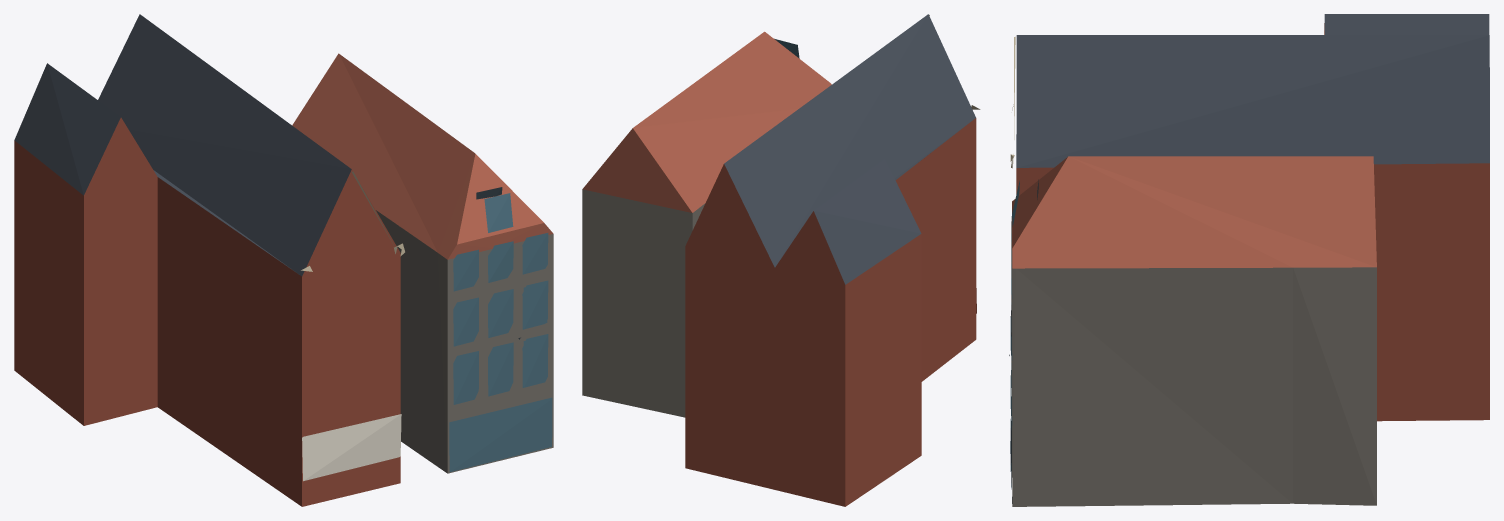
Rendered from ons-lieve-heer-op-solder.lod2.glb.
3 renders of one model, left to right at view 1: azimuth 30°, elevation 25°; view 2: azimuth 150°, elevation 25°; view 3: azimuth 270°, elevation 25°, orthographic. The views are drawn at different scales.
Parts seen in each view (by area): view 1: lod2; view 2: lod2; view 3: lod2.
Boxes of the visible parts, <box> form: lod2: <box>14,14,553,506</box>; lod2: <box>582,14,980,506</box>; lod2: <box>1009,14,1489,506</box>.
Bounding box in the file's own units: 21 × 19.8 × 23.77.
